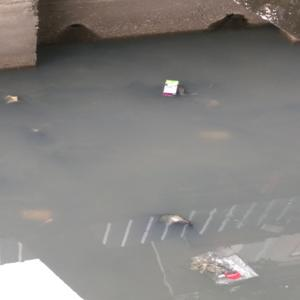cardboard: (156, 76, 182, 95)
plastic: (191, 239, 260, 287)
